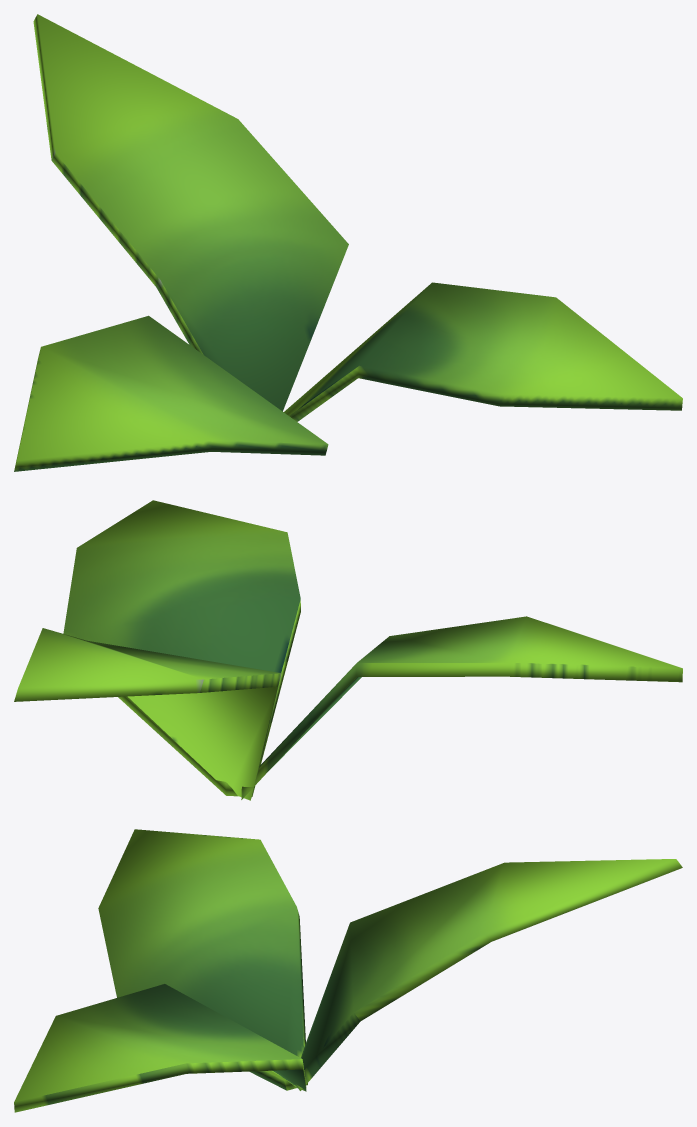
The model's file is grass2.fbx.
3 renders of one model, top to bottom at view 1: azimuth 30°, elevation 25°; view 2: azimuth 150°, elevation 25°; view 3: azimuth 270°, elevation 25°, orthographic. The views are drawn at different scales.
Parts seen in each view (by area): view 1: grass,002; view 2: grass,002; view 3: grass,002.
Boxes of the visible parts, bbox=[...] form: grass,002: bbox=[14, 14, 682, 471]; grass,002: bbox=[14, 500, 682, 800]; grass,002: bbox=[14, 829, 682, 1112].
Size of the model in its own units: 216 by 94.1 by 247.
